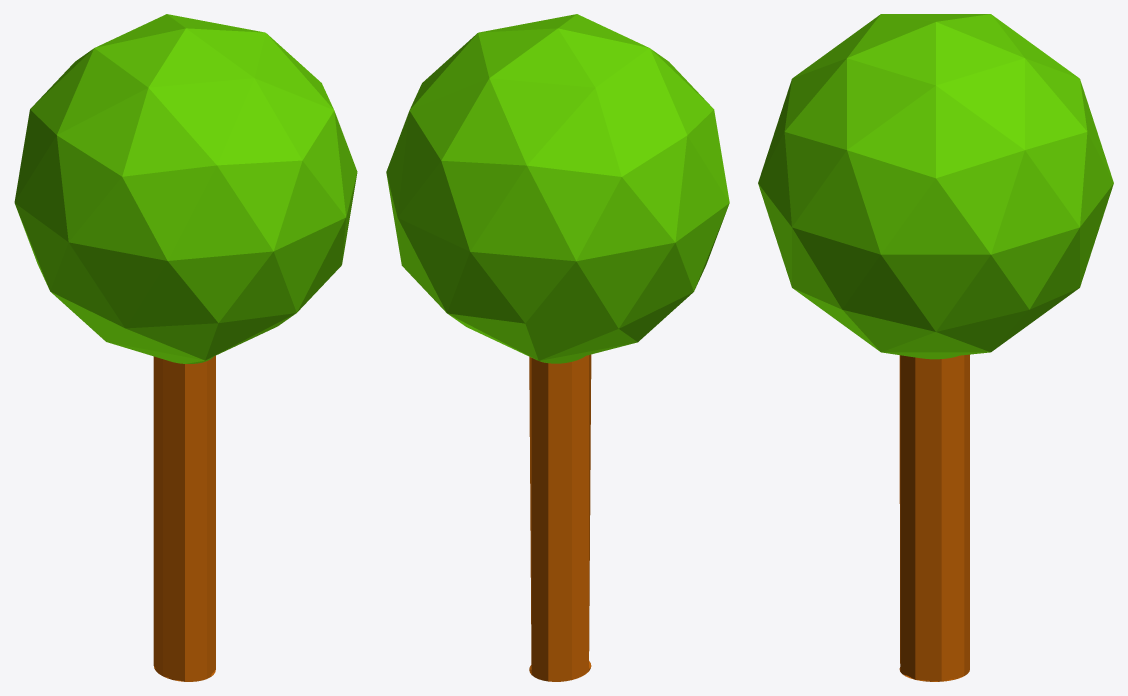
The model's file is lowPolyTree-1.fbx.
3 renders of one model, left to right at view 1: azimuth 30°, elevation 25°; view 2: azimuth 150°, elevation 25°; view 3: azimuth 270°, elevation 25°, orthographic.
Parts seen in each view (by area): view 1: Icosphere; view 2: Icosphere; view 3: Icosphere.
Part boxes in pixels (x1=…): Icosphere: x1=14, y1=14, x2=357, y2=681; Icosphere: x1=386, y1=14, x2=729, y2=681; Icosphere: x1=758, y1=14, x2=1113, y2=681.
Size of the model in its own units: 190 by 402 by 200.
